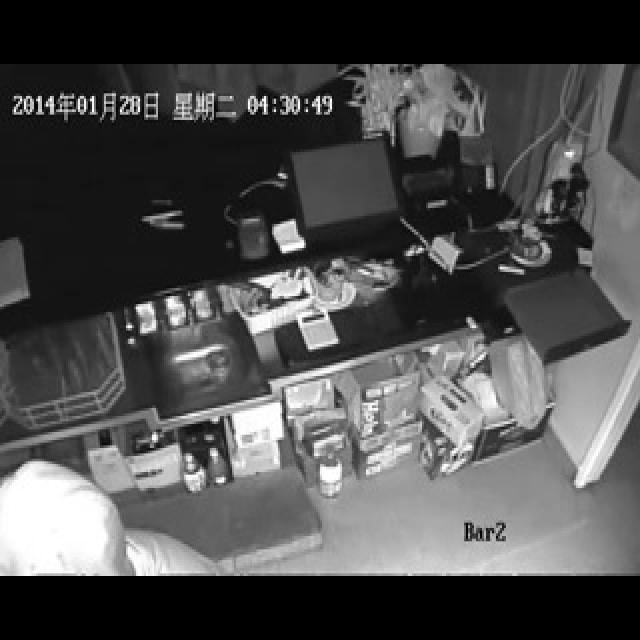thief: (3, 462, 142, 582)
